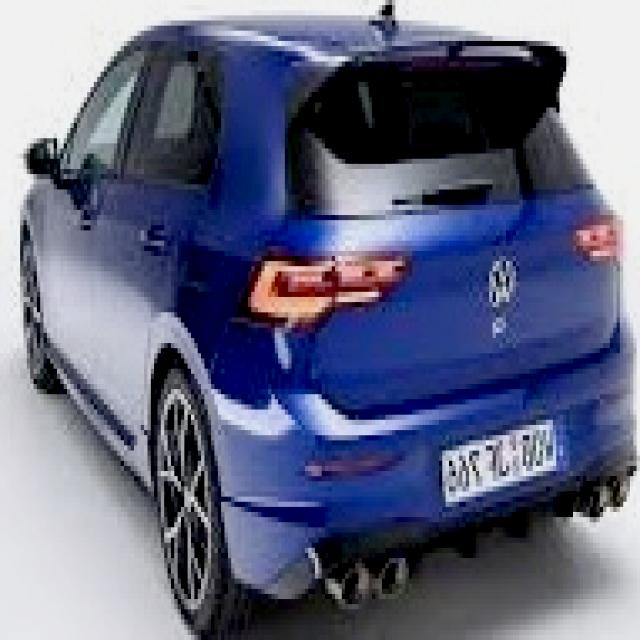blue: (16, 3, 630, 602)
